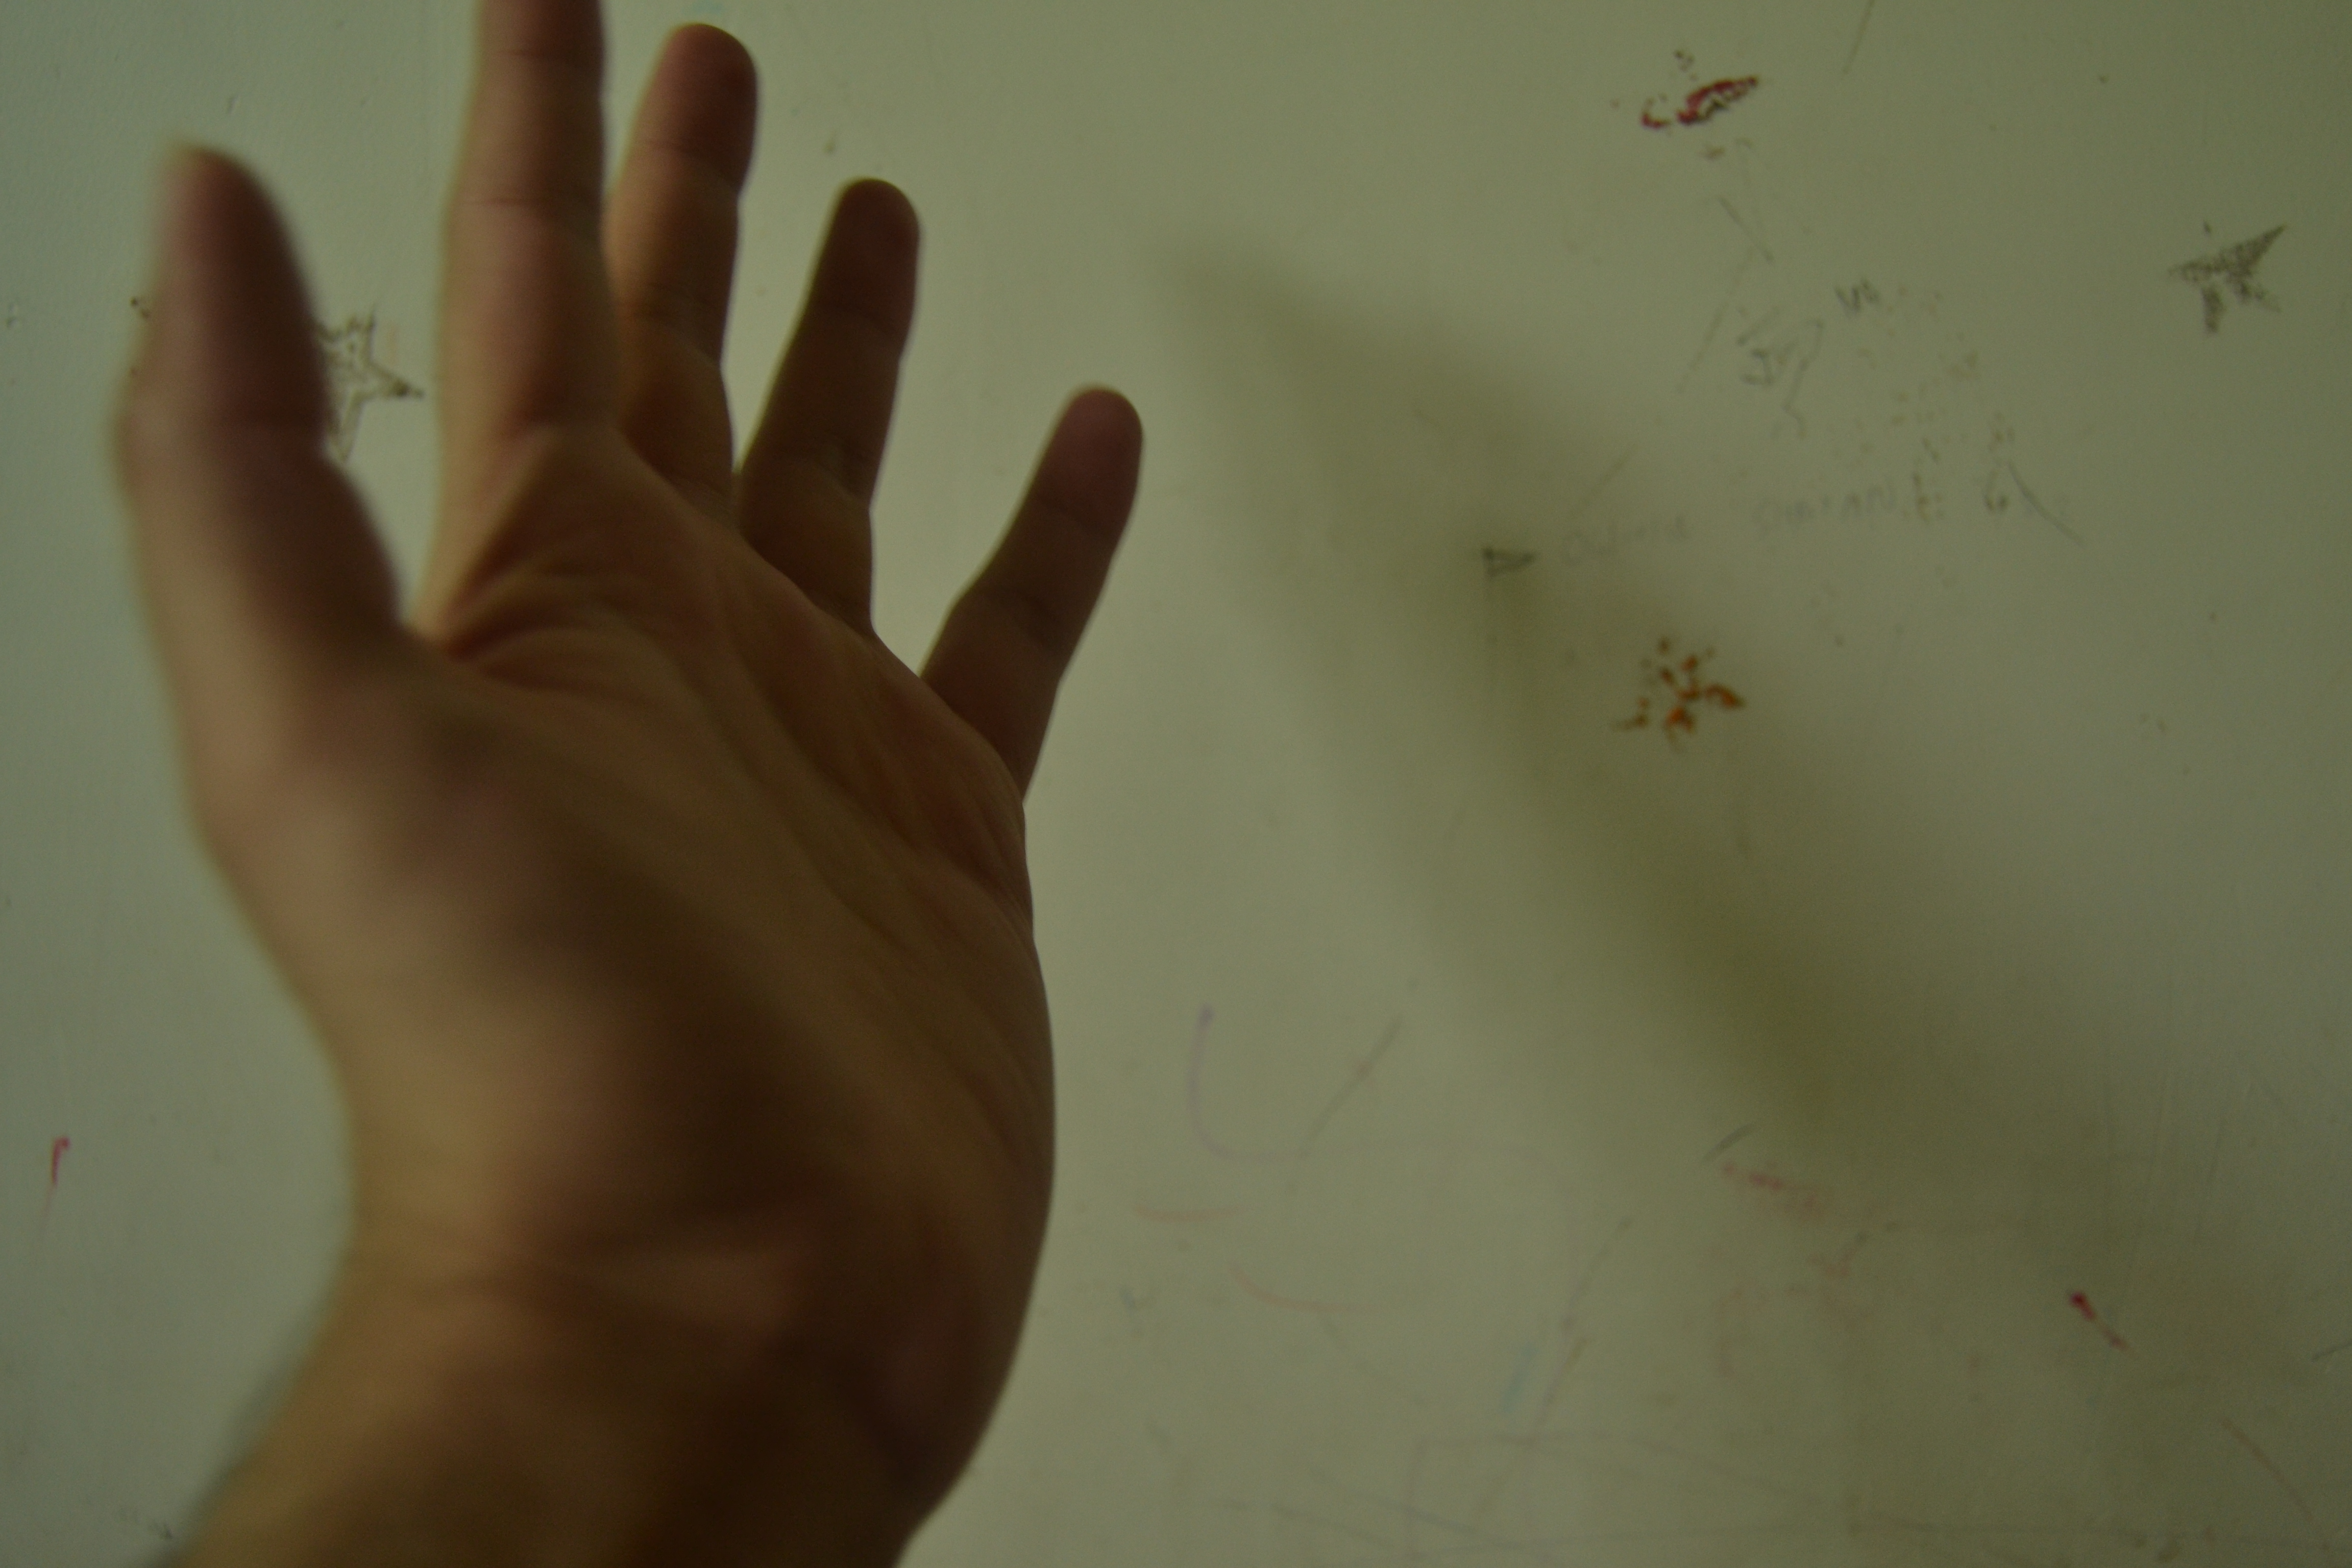move: (54, 12, 1200, 1451)
